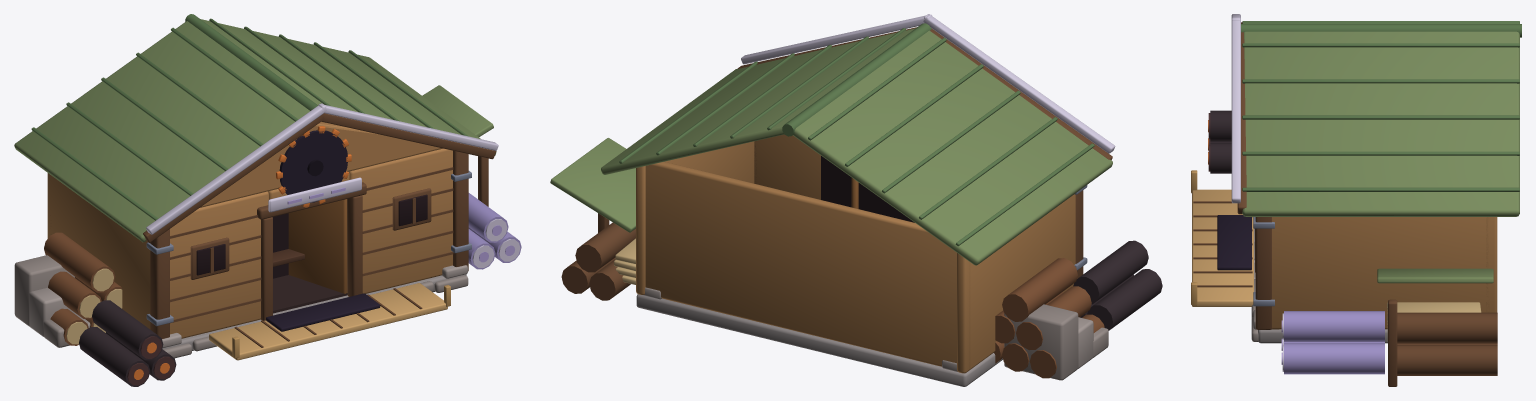
The model's file is sawmill4.glb.
3 renders of one model, left to right at view 1: azimuth 30°, elevation 25°; view 2: azimuth 150°, elevation 25°; view 3: azimuth 270°, elevation 25°, orthographic. The views are drawn at different scales.
Visible parts, largest first — view 1: base, obsidian-blade, glimplank-trim, emberwood-logs; view 2: base, emberwood-logs, glimplank-trim; view 3: base, obsidian-blade, glimplank-trim, emberwood-logs.
Part boxes in pixels (box(x1,y1,x2,y2)): base: box(14, 14, 521, 360); obsidian-blade: box(266, 126, 380, 331); glimplank-trim: box(146, 103, 498, 234); emberwood-logs: box(79, 300, 176, 386); base: box(550, 23, 1112, 386); emberwood-logs: box(1073, 240, 1162, 330); glimplank-trim: box(741, 14, 1115, 153); base: box(1191, 21, 1521, 386); obsidian-blade: box(1217, 215, 1251, 270); glimplank-trim: box(1231, 14, 1240, 203); emberwood-logs: box(1208, 110, 1231, 173).
Size of the model in its own units: 7.32 by 3.47 by 4.26.
